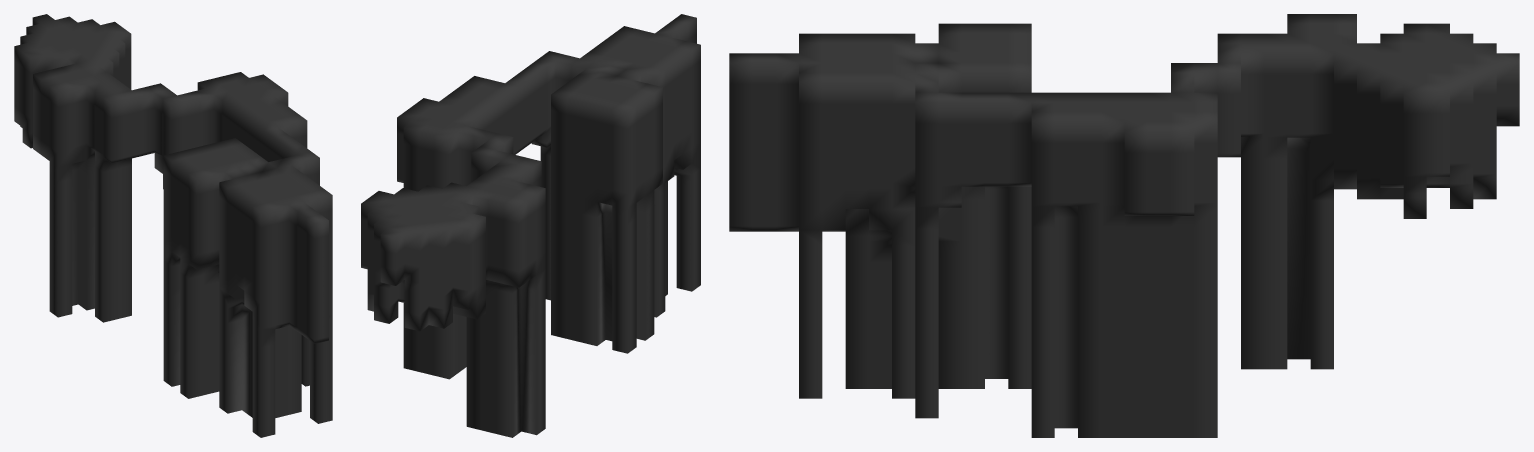
The model's file is map_base_backup008.gltf.
3 renders of one model, left to right at view 1: azimuth 30°, elevation 25°; view 2: azimuth 150°, elevation 25°; view 3: azimuth 270°, elevation 25°, orthographic. The views are drawn at different scales.
Visible parts, largest first — view 1: Cube; view 2: Cube; view 3: Cube.
Part boxes in pixels (box(x1,y1,x2,y2)): Cube: box(14, 14, 332, 437); Cube: box(361, 14, 700, 437); Cube: box(729, 14, 1519, 437).
Size of the model in its own units: 24 by 30 by 68.03.
Materials: 1 (1 with a texture image).
